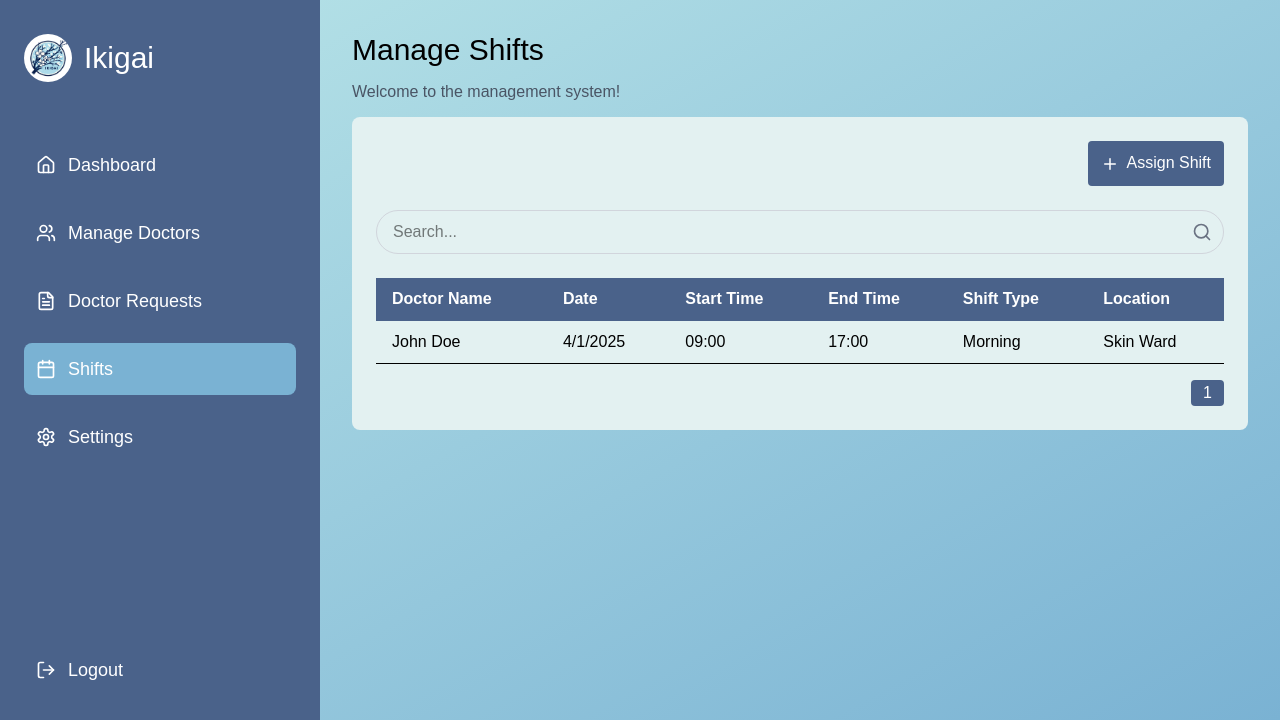
Healthcare System E2E Tests › User Story 4: Assign Shifts to Doctors › TC_09: Assign Shift with Invalid Date (Past)
Click the button "Assign Shift". click: (1157, 163)
box: x1=1088 y1=141 x2=1225 y2=185
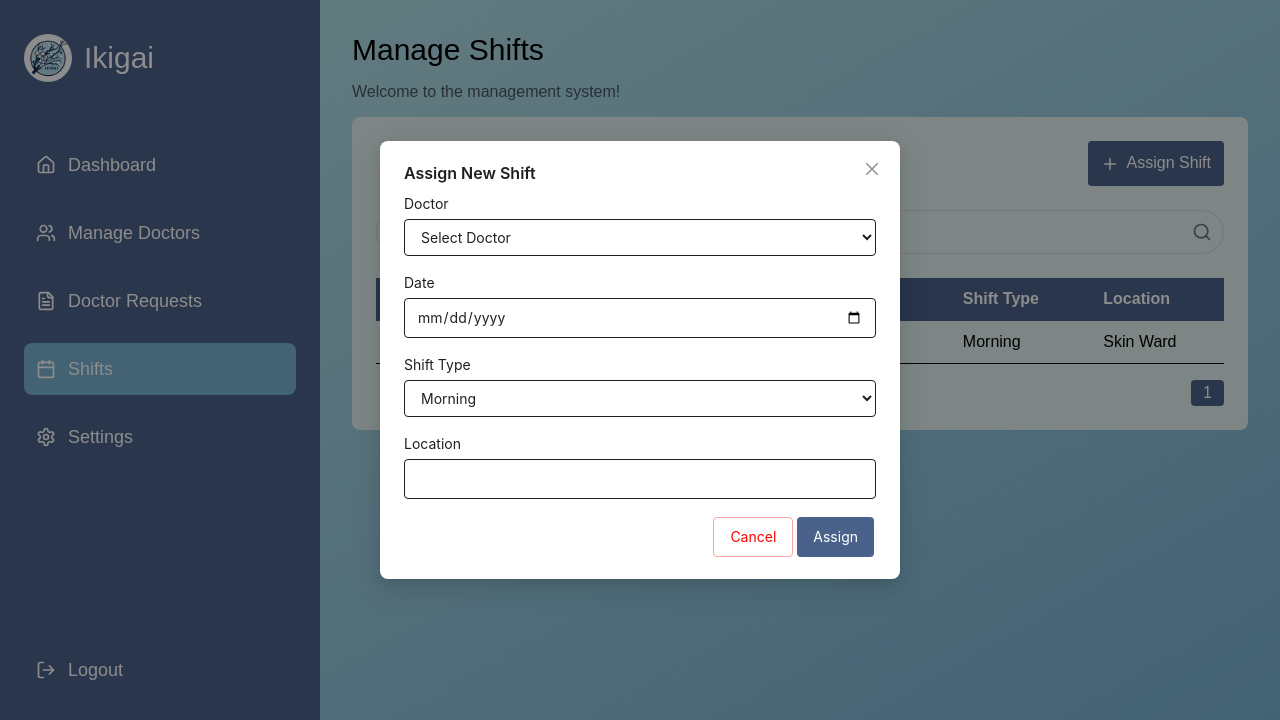
Select "John Doe" in the 1st dropdown named "doctorId". click: (640, 238)
box: x1=404 y1=219 x2=876 y2=256
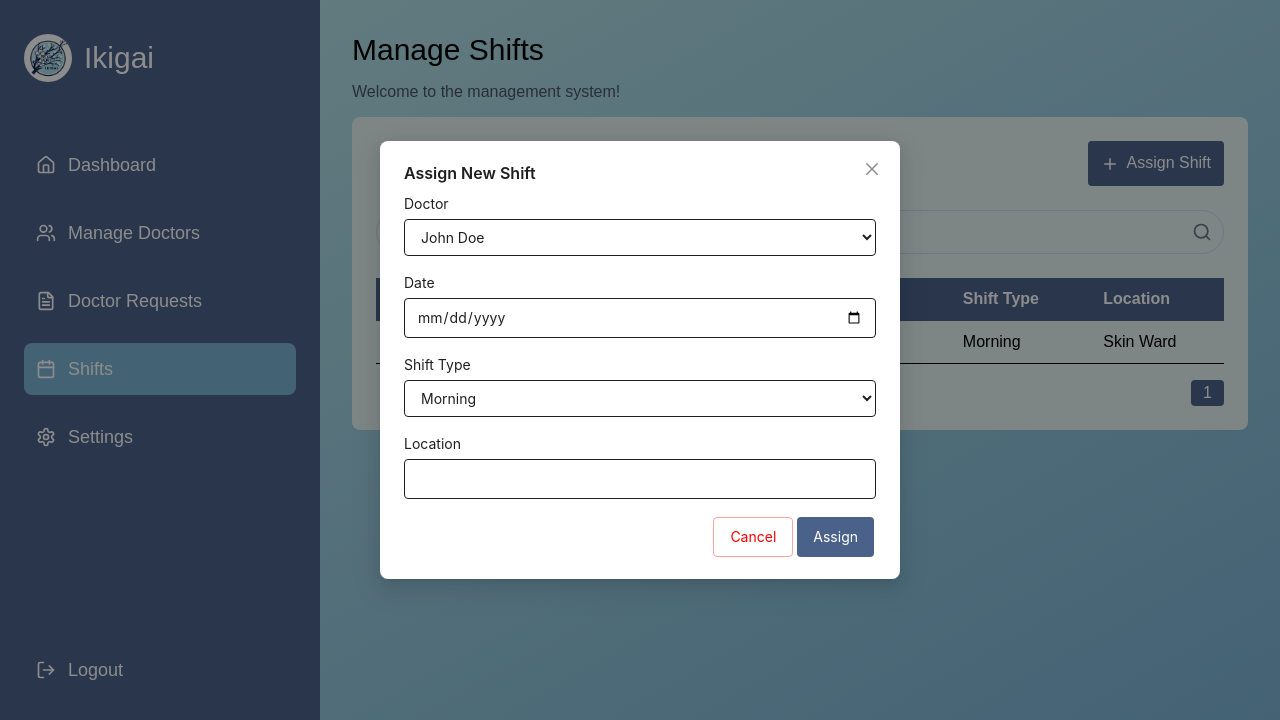
Type "2025-04-01" into the date field named "date". click: (640, 318)
box: x1=404 y1=298 x2=876 y2=338
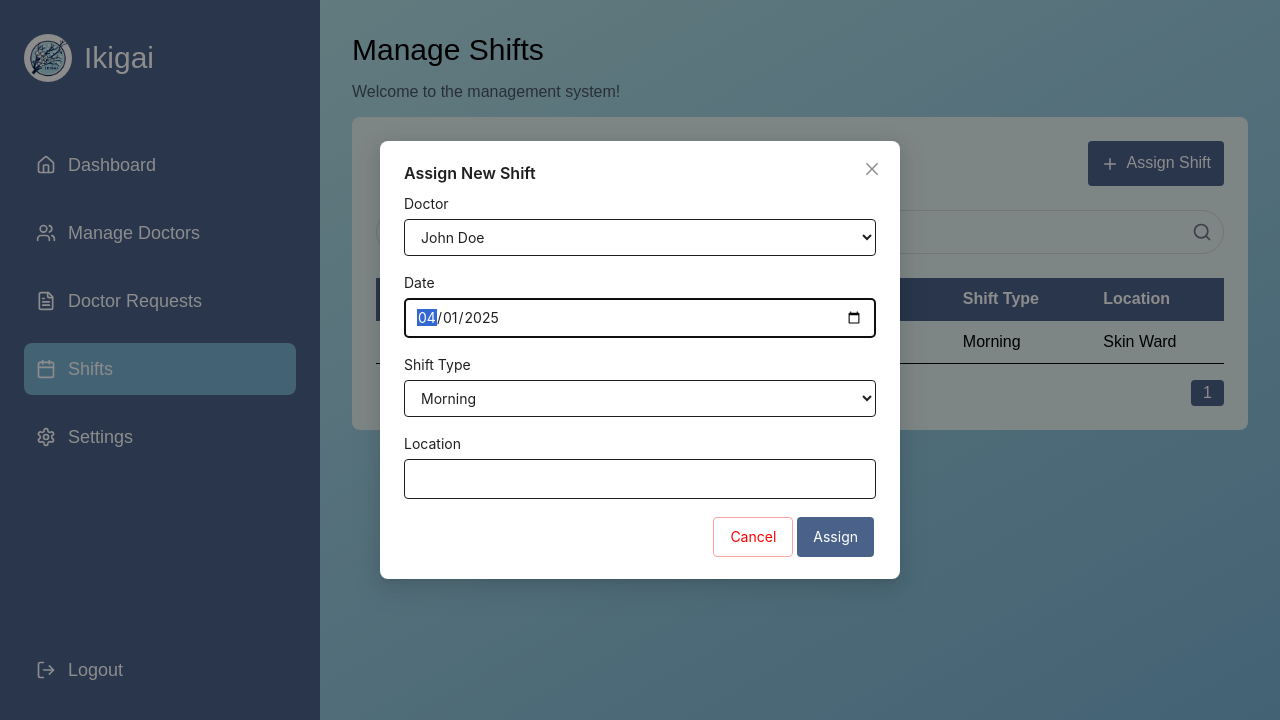
Select "Morning" in the 2nd dropdown named "shiftType". click: (640, 399)
box: x1=404 y1=380 x2=876 y2=417
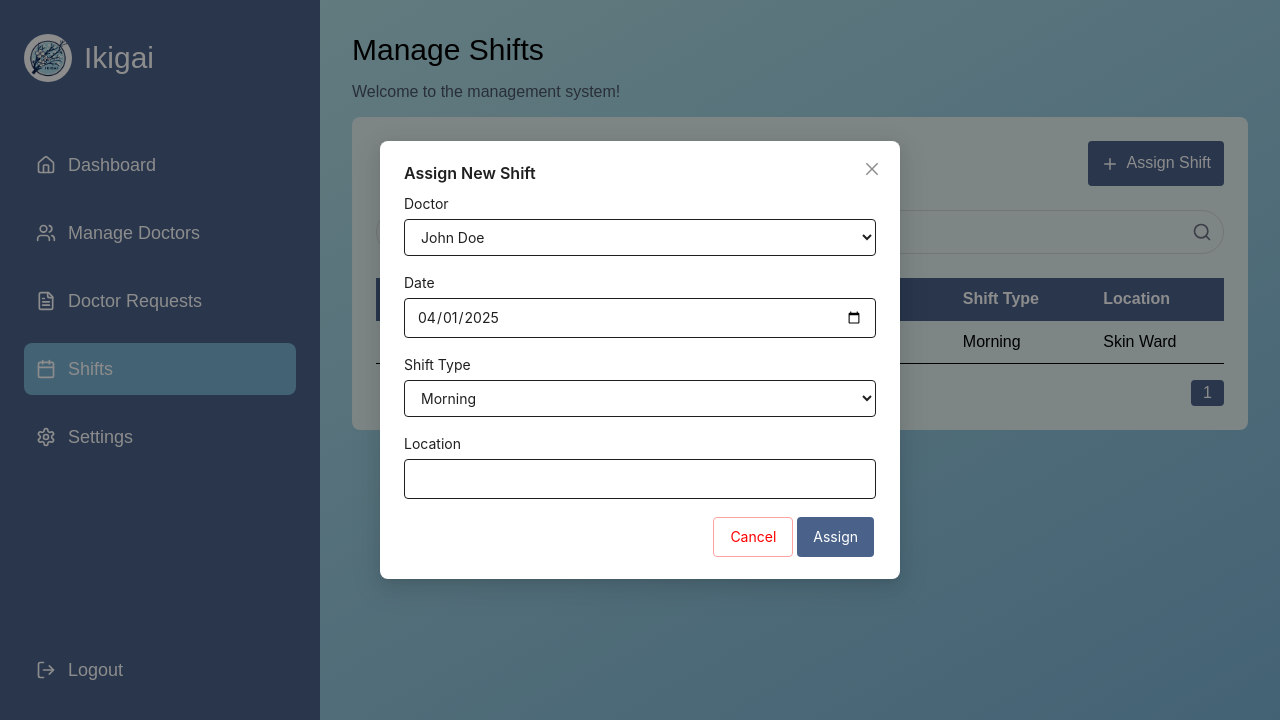
Type "Cardiology Ward" into the field named "location". click: (640, 479)
box: x1=404 y1=459 x2=876 y2=499
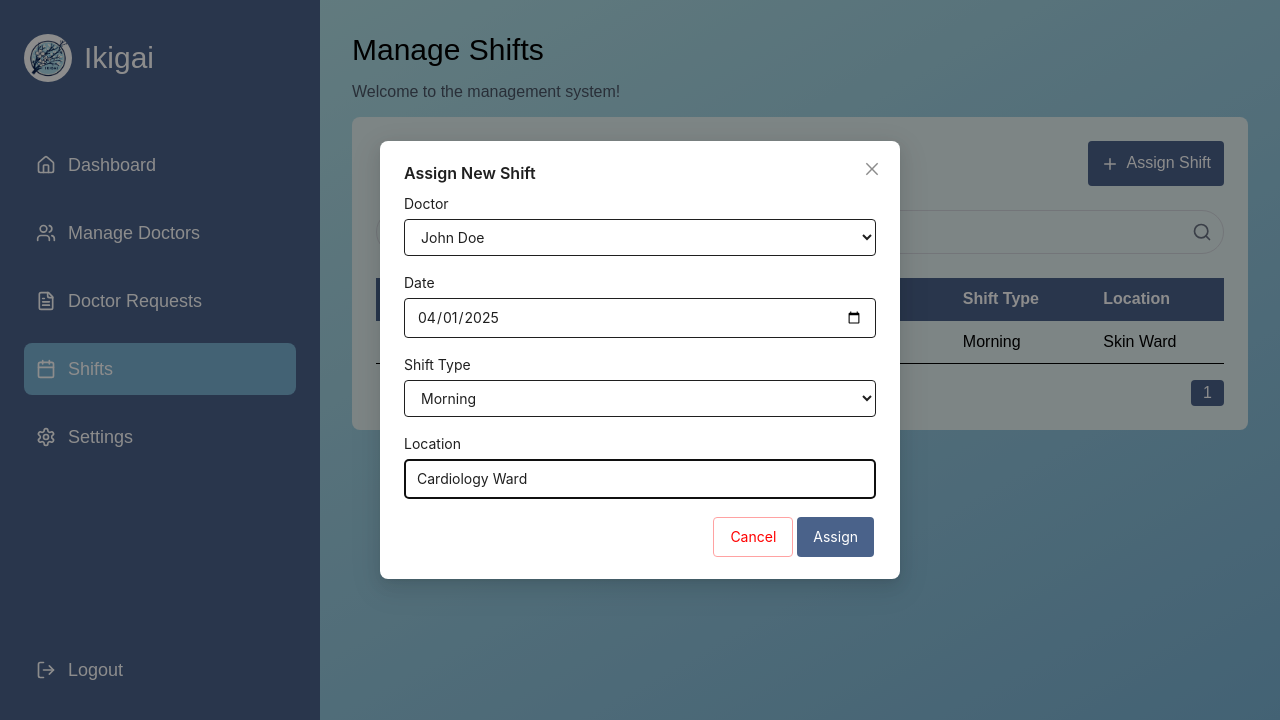
Click the button with test id "Assign-btn". click: (836, 537)
box: x1=797 y1=517 x2=874 y2=557
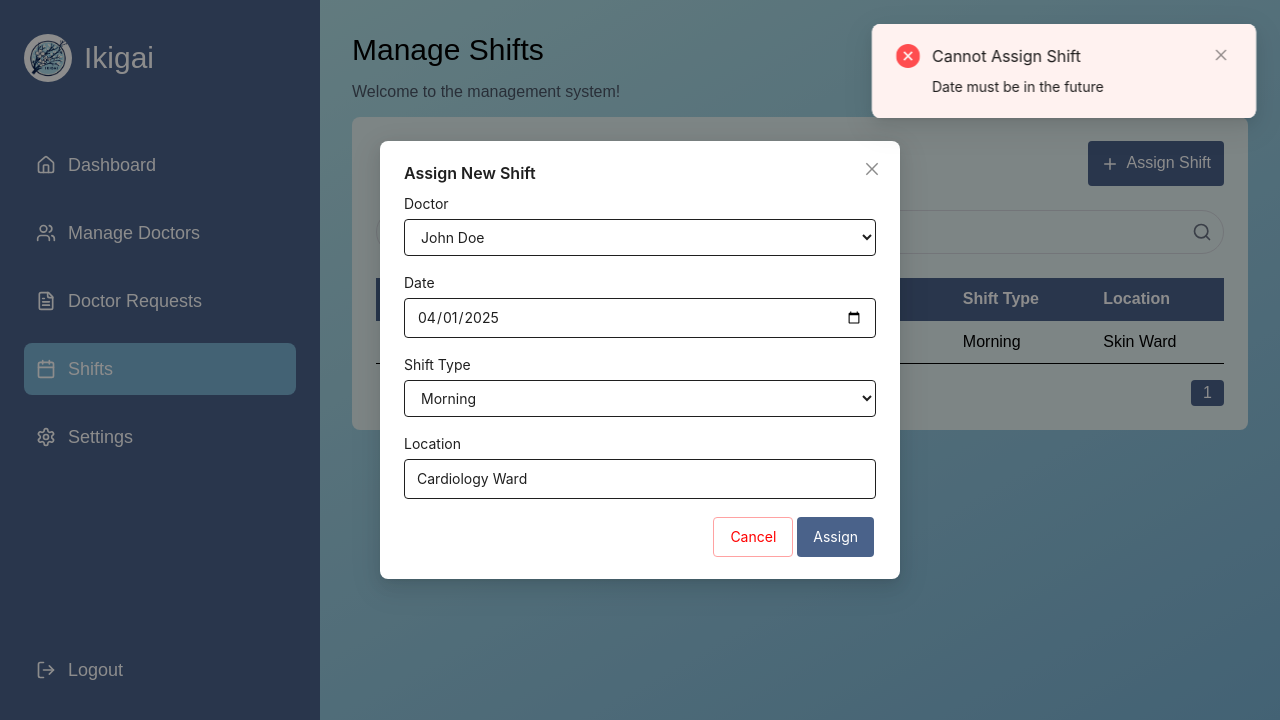
Expected: the text "Cannot Assign Shift" is shown, x1=932 y1=46 x2=1081 y2=66
Expected: the text "Date must be in the future" is shown, x1=932 y1=78 x2=1104 y2=95
